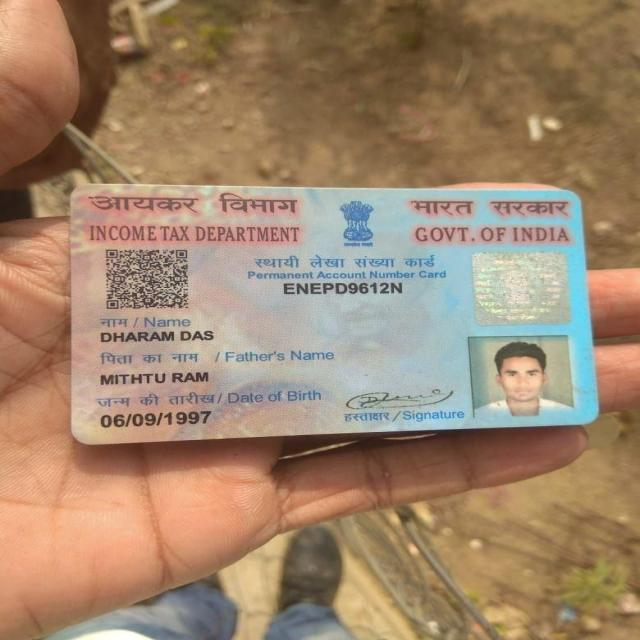pan_card: (66, 190, 598, 447)
